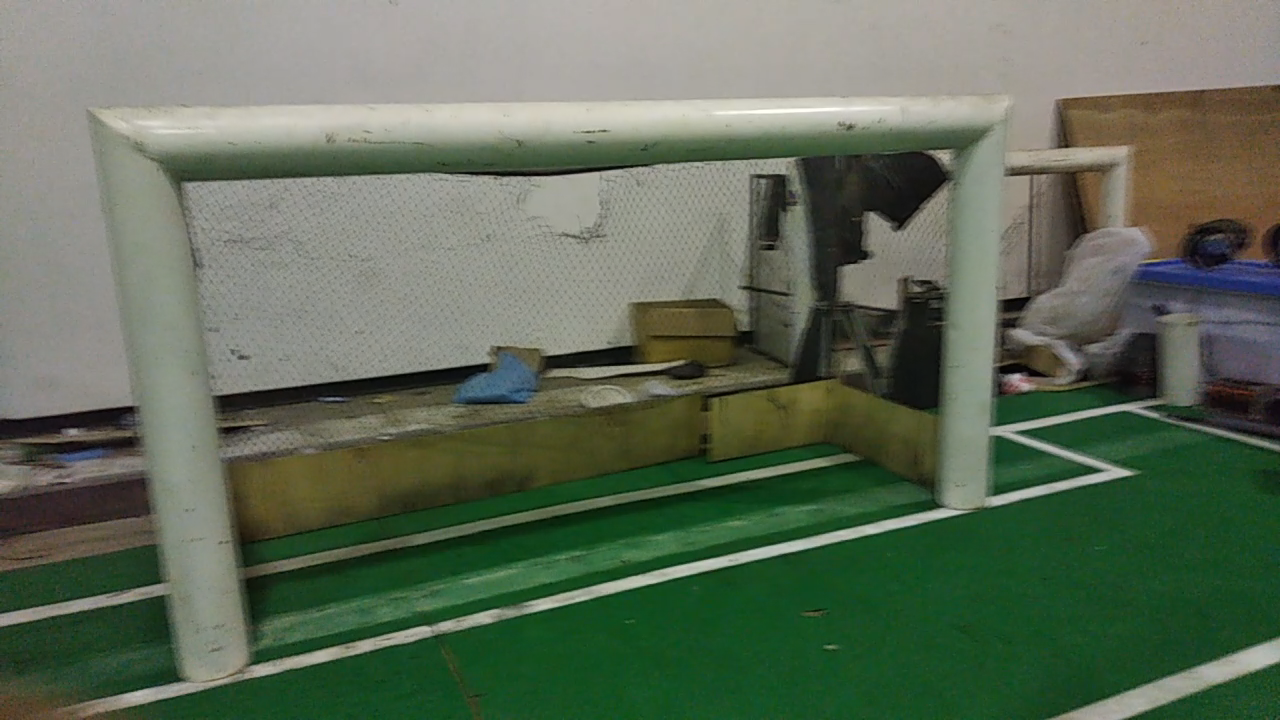gawang: (72, 83, 1026, 693)
